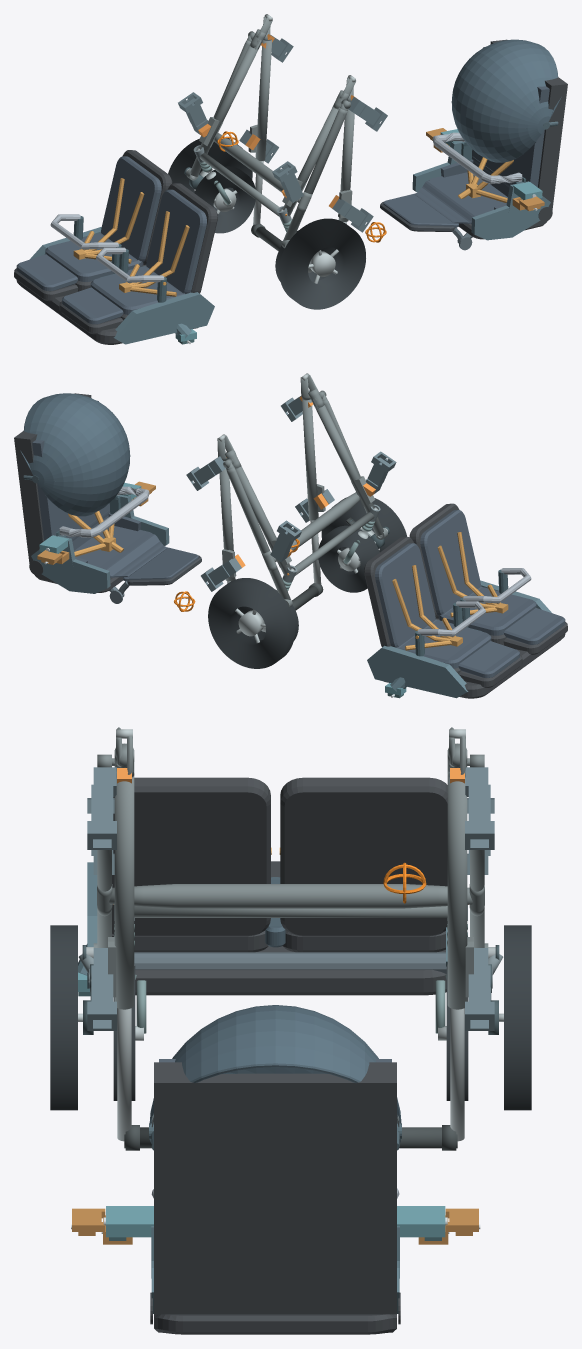
Rendered from D23_w650_state3_wheel_M.glb.
3 renders of one model, top to bottom at view 1: azimuth 30°, elevation 25°; view 2: azimuth 150°, elevation 25°; view 3: azimuth 270°, elevation 25°, orthographic. The views are drawn at different scales.
Visible parts, largest first — view 1: D23_Upper, D23_Lower, RL_tire.011, D23_Lower_Mount_L, FR_tire.011, RR_tire.011, main_upper_1.012, V46_rear_leg_-1.011, main_lower_1.012, V46_rearbar.011, main_lower_-1.012, main_upper_-1.012 (+7 smaller); view 2: D23_Upper, D23_Lower, RR_tire.011, D23_Lower_Mount_L, FL_tire.011, RL_tire.011, main_upper_-1.012, V46_rear_leg_1.011, main_lower_-1.012, V46_rearbar.011, main_lower_1.012, main_upper_1.012 (+7 smaller); view 3: D23_Lower, D23_Upper, V46_rearbar.011, RL_tire.011, RR_tire.011, main_upper_1.012, main_upper_-1.012, D23_Lower_Mount_L, front_fixed_round_tube.011, Universal_Cabin_Receiver_M_-1, Universal_Cabin_Receiver_M_1, Universal_Cabin_Receiver_H_1 (+10 smaller).
Part boxes in pixels (x1=…): D23_Upper: x1=14, y1=150, x2=217, y2=344; D23_Lower: x1=380, y1=39, x2=567, y2=250; RL_tire.011: x1=279, y1=218, x2=365, y2=309; D23_Lower_Mount_L: x1=412, y1=129, x2=550, y2=240; FR_tire.011: x1=194, y1=166, x2=255, y2=233; RR_tire.011: x1=168, y1=138, x2=252, y2=211; main_upper_1.012: x1=255, y1=40, x2=271, y2=161; V46_rear_leg_-1.011: x1=283, y1=108, x2=347, y2=240; main_lower_1.012: x1=199, y1=40, x2=261, y2=153; V46_rearbar.011: x1=214, y1=133, x2=300, y2=202; main_lower_-1.012: x1=282, y1=106, x2=340, y2=216; main_upper_-1.012: x1=338, y1=101, x2=354, y2=221; D23_Upper: x1=364, y1=503, x2=567, y2=698; D23_Lower: x1=14, y1=393, x2=201, y2=603; RR_tire.011: x1=208, y1=578, x2=294, y2=668; D23_Lower_Mount_L: x1=31, y1=482, x2=169, y2=593; FL_tire.011: x1=318, y1=525, x2=379, y2=592; RL_tire.011: x1=321, y1=497, x2=407, y2=571; main_upper_-1.012: x1=302, y1=399, x2=318, y2=520; V46_rear_leg_1.011: x1=226, y1=467, x2=290, y2=599; main_lower_-1.012: x1=313, y1=399, x2=374, y2=512; V46_rearbar.011: x1=273, y1=492, x2=359, y2=561; main_lower_1.012: x1=233, y1=465, x2=291, y2=575; main_upper_1.012: x1=219, y1=461, x2=235, y2=581; D23_Lower: x1=149, y1=1005, x2=401, y2=1334; D23_Upper: x1=87, y1=777, x2=447, y2=995; V46_rearbar.011: x1=109, y1=884, x2=472, y2=908; RL_tire.011: x1=50, y1=925, x2=77, y2=1110; RR_tire.011: x1=504, y1=925, x2=531, y2=1110; main_upper_1.012: x1=447, y1=776, x2=467, y2=1009; main_upper_-1.012: x1=114, y1=776, x2=134, y2=1009; D23_Lower_Mount_L: x1=101, y1=1206, x2=449, y2=1313; front_fixed_round_tube.011: x1=134, y1=906, x2=447, y2=917; Universal_Cabin_Receiver_M_-1: x1=87, y1=767, x2=116, y2=849; Universal_Cabin_Receiver_M_1: x1=465, y1=767, x2=494, y2=849; Universal_Cabin_Receiver_H_1: x1=465, y1=948, x2=494, y2=1030.
Bounding box in the file's own units: 1.85 × 0.7826 × 0.781.
